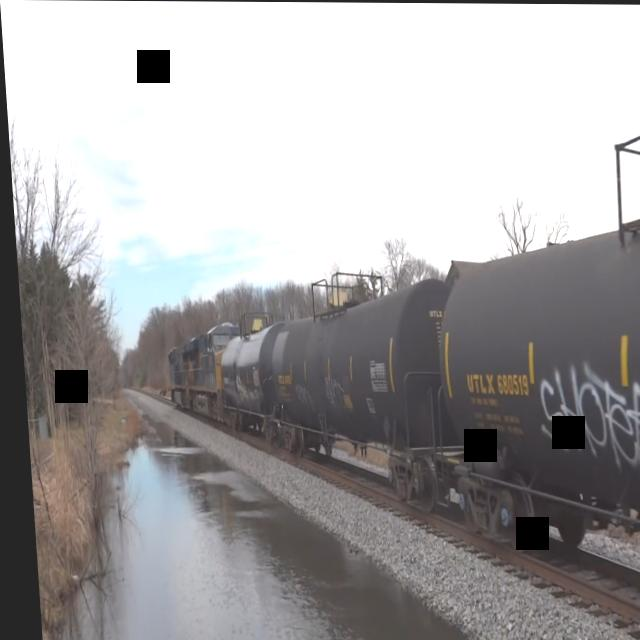tank: (421, 112, 640, 639), (267, 265, 464, 515), (212, 312, 281, 447)
